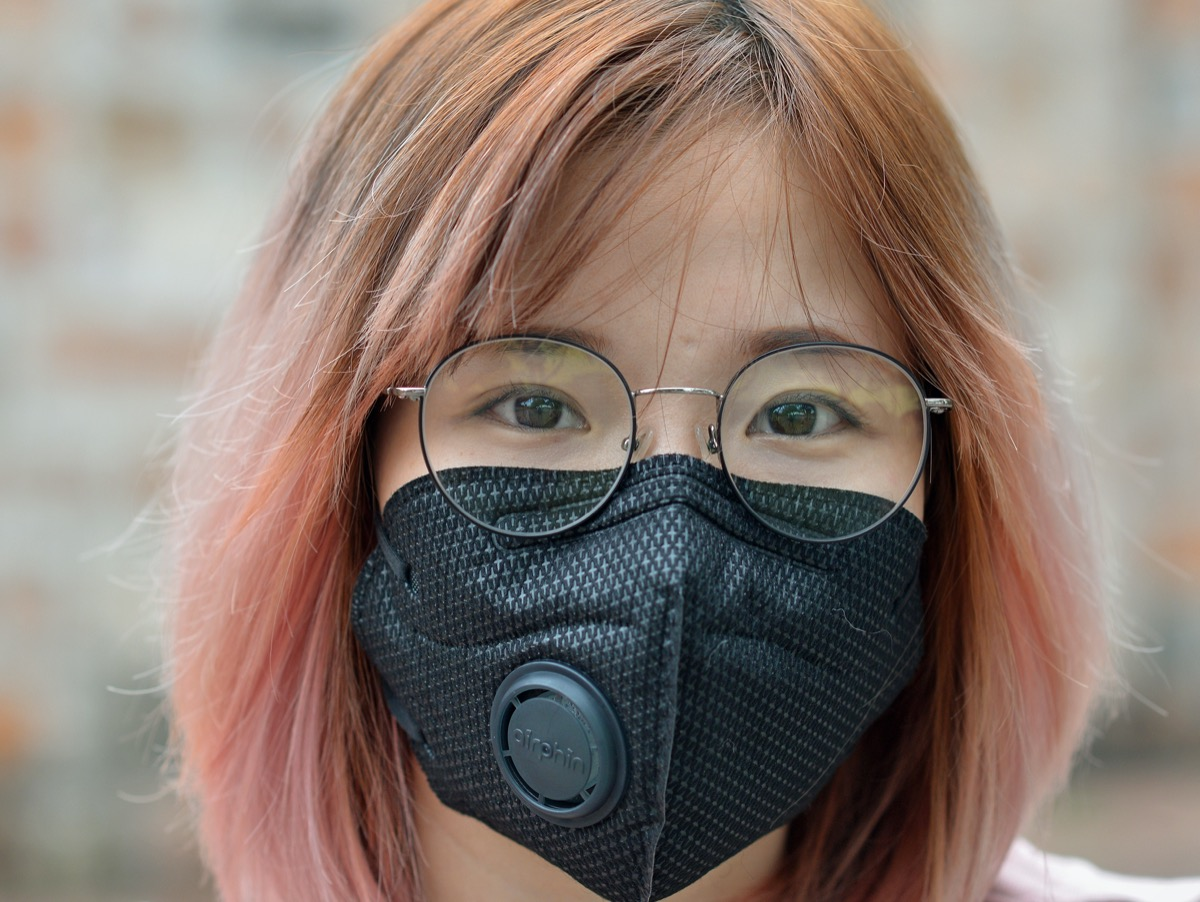with_mask: (379, 208, 930, 879)
